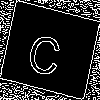C: (24, 24, 66, 78)
